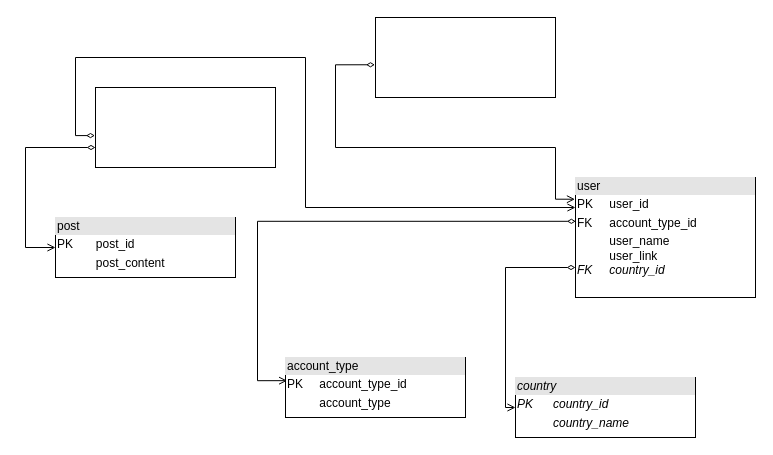
Some shapes in this 773 by 455 pixel diagram are drawn without their labels. Each missing label, with the centre of its shape:
"link PK link_id FK user_id link_content" goes at pixel 465 57.
"post_user PK post_user_id FK user_id FK post_id" goes at pixel 185 127.
